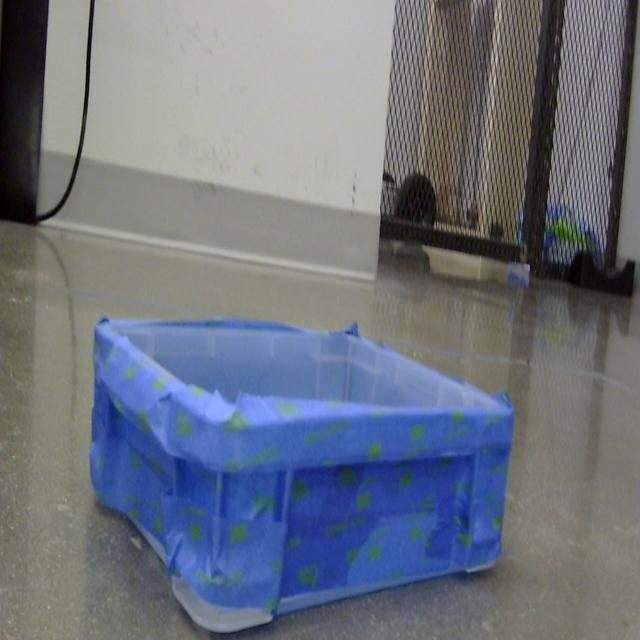bucket: (88, 318, 515, 637)
